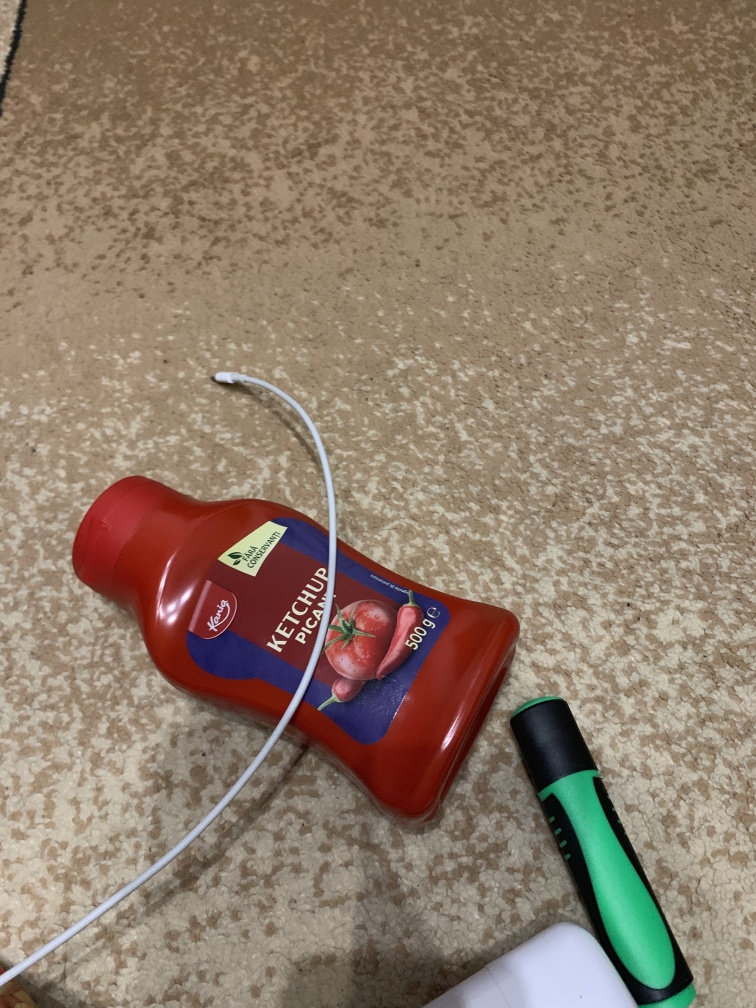ketchup: (57, 472, 525, 827)
